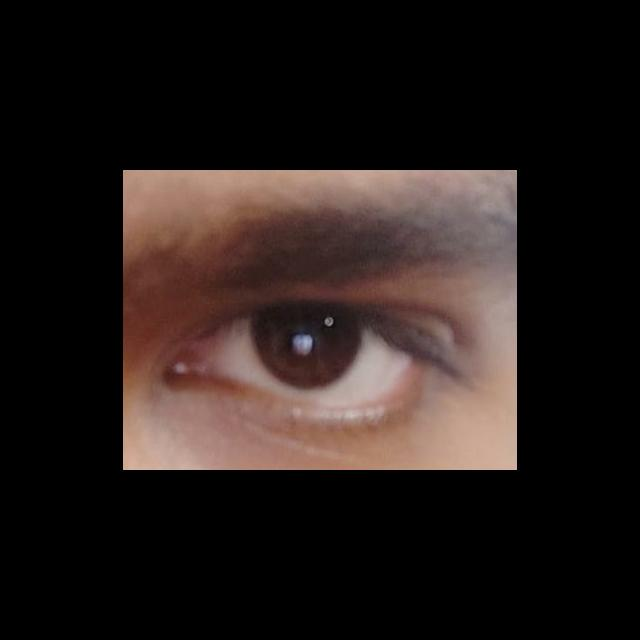eye: (203, 308, 434, 408)
iris: (251, 313, 363, 386)
